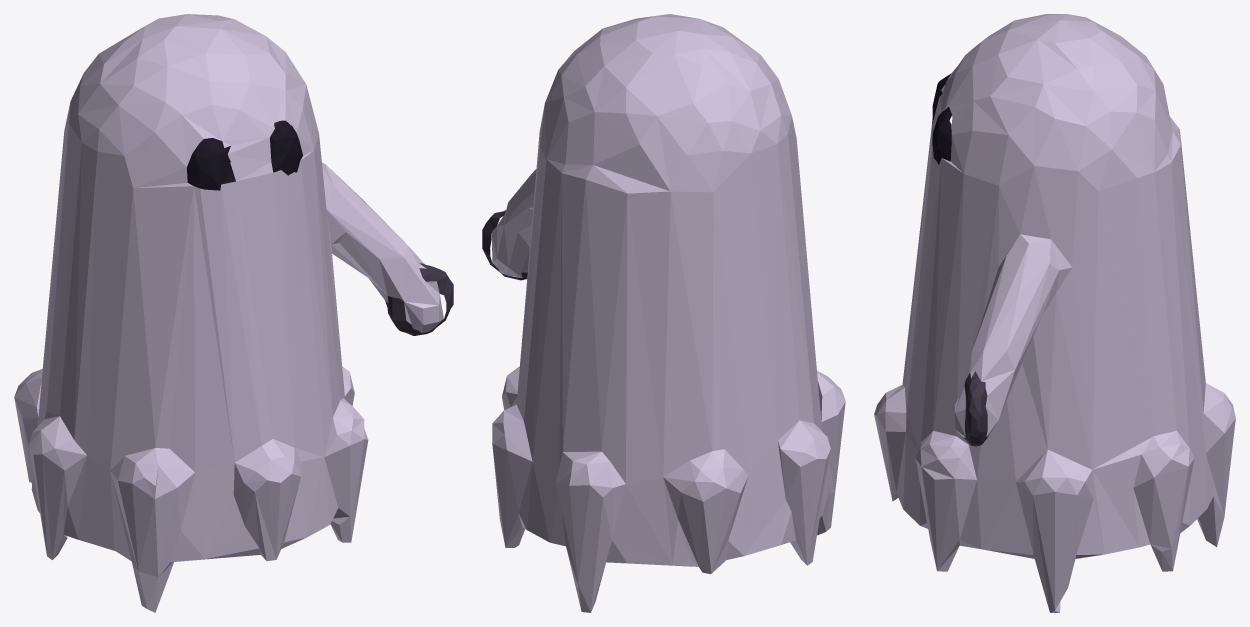
The model's file is spirit_shackled.glb.
3 renders of one model, left to right at view 1: azimuth 30°, elevation 25°; view 2: azimuth 150°, elevation 25°; view 3: azimuth 270°, elevation 25°, orthographic.
Visible parts, largest first — view 1: spirit_shackled; view 2: spirit_shackled; view 3: spirit_shackled.
Boxes of the visible parts, bbox=[...] form: spirit_shackled: bbox=[14, 14, 453, 612]; spirit_shackled: bbox=[482, 14, 845, 612]; spirit_shackled: bbox=[874, 14, 1235, 612].
Size of the model in its own units: 1.1 by 1.44 by 0.9102.
